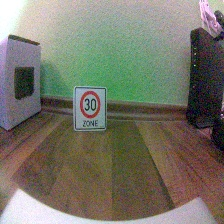dreisiger_zone: (72, 86, 107, 131)
